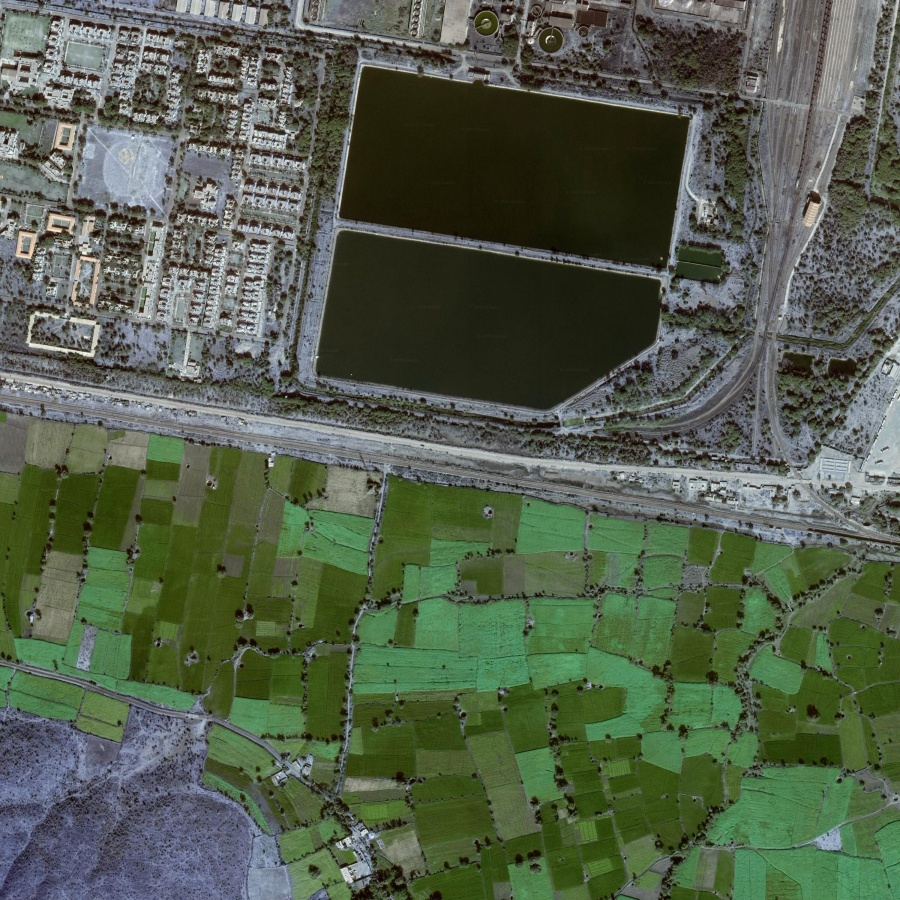PowerPlant: (287, 34, 707, 440)
